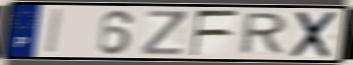6: (96, 9, 136, 56)
F: (189, 9, 242, 58)
I: (44, 8, 66, 55)
R: (237, 12, 291, 57)
X: (288, 10, 340, 59)
Z: (141, 9, 189, 57)
